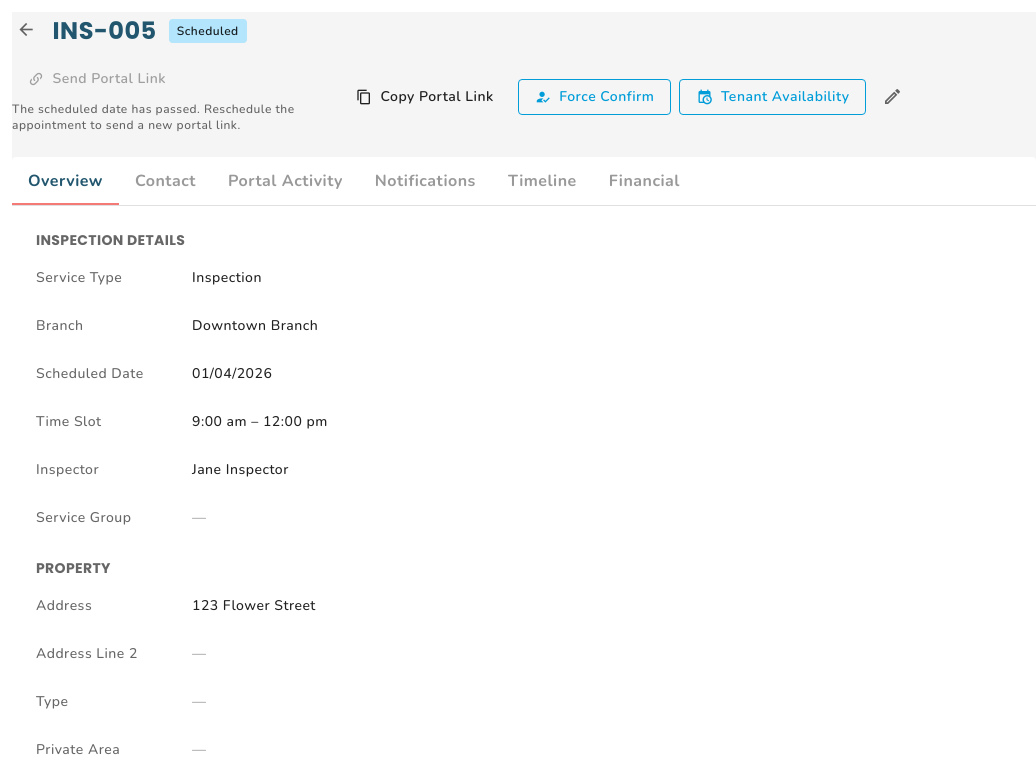
Test: AppointmentDetailPage — Copy Portal Link (T39) › shows error toast on 409 PORTAL_TOKEN_NOT_DECRYPTABLE
The width and height of the screenshot is (1036, 780).
Click the button with test id "copy-portal-link-button" at (425, 97), box [340,79,510,115]
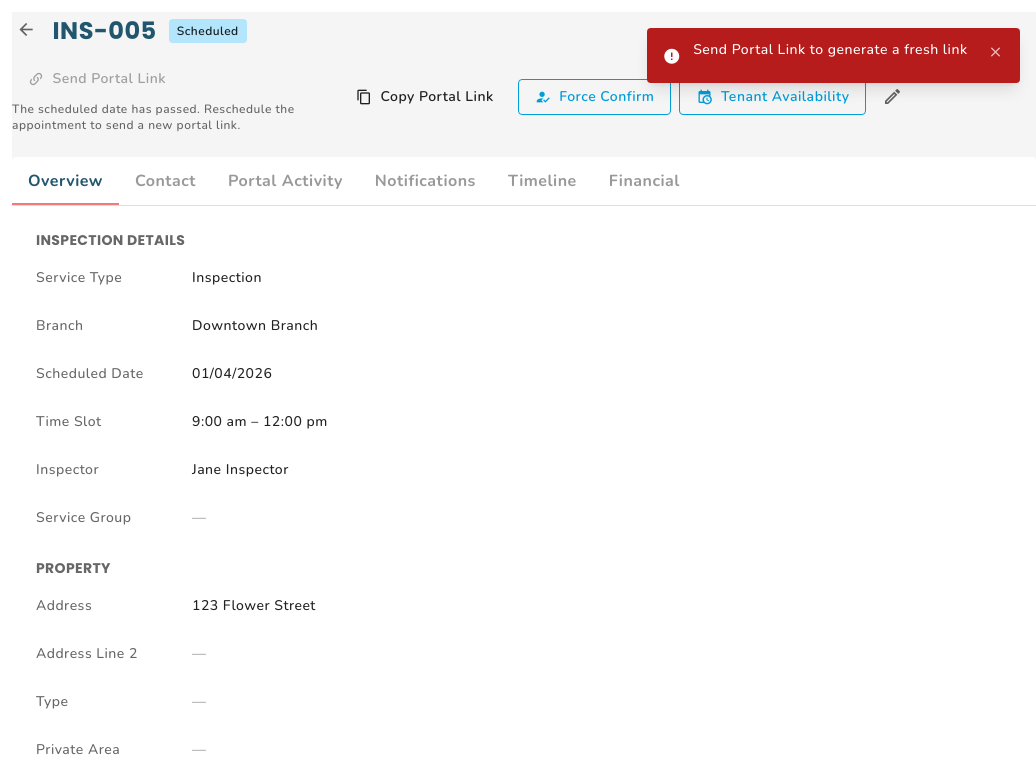
Now the text "Send Portal Link to generate a fresh link" is shown, box [693,40,968,60]
